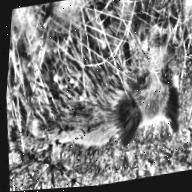boar: (8, 0, 192, 166)
